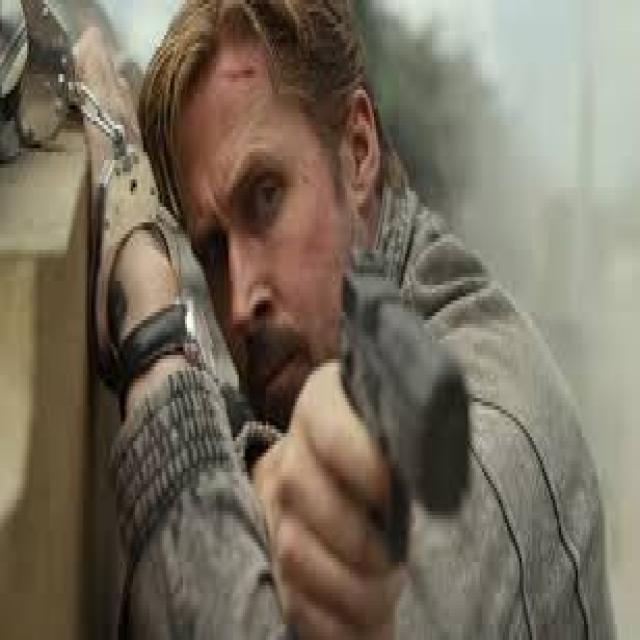weapons: (308, 202, 488, 633)
